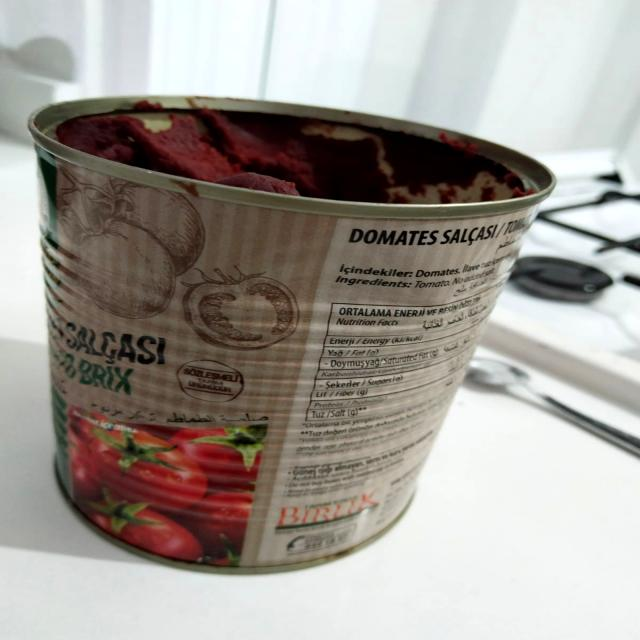tomato paste: (0, 101, 556, 567)
